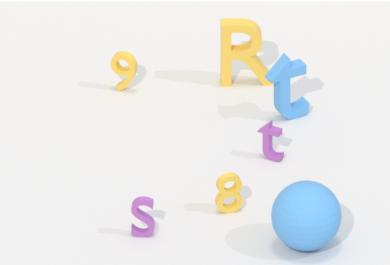0-Tron: (265, 177, 343, 256)
8: (212, 167, 246, 218)
9: (107, 45, 139, 96)
R: (217, 12, 274, 89)
S: (127, 192, 160, 242)
t: (265, 48, 313, 125), (255, 117, 288, 167)
